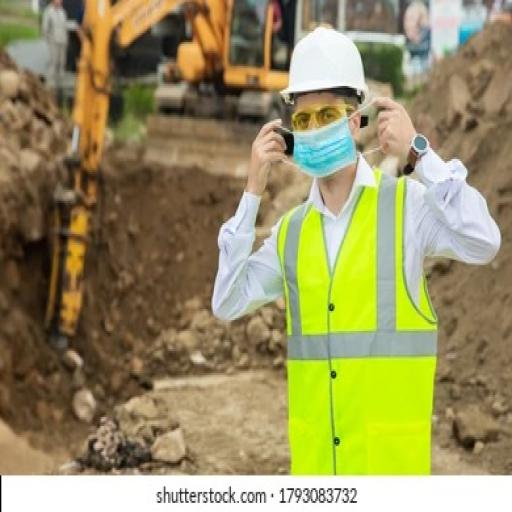mask: (285, 124, 363, 186)
